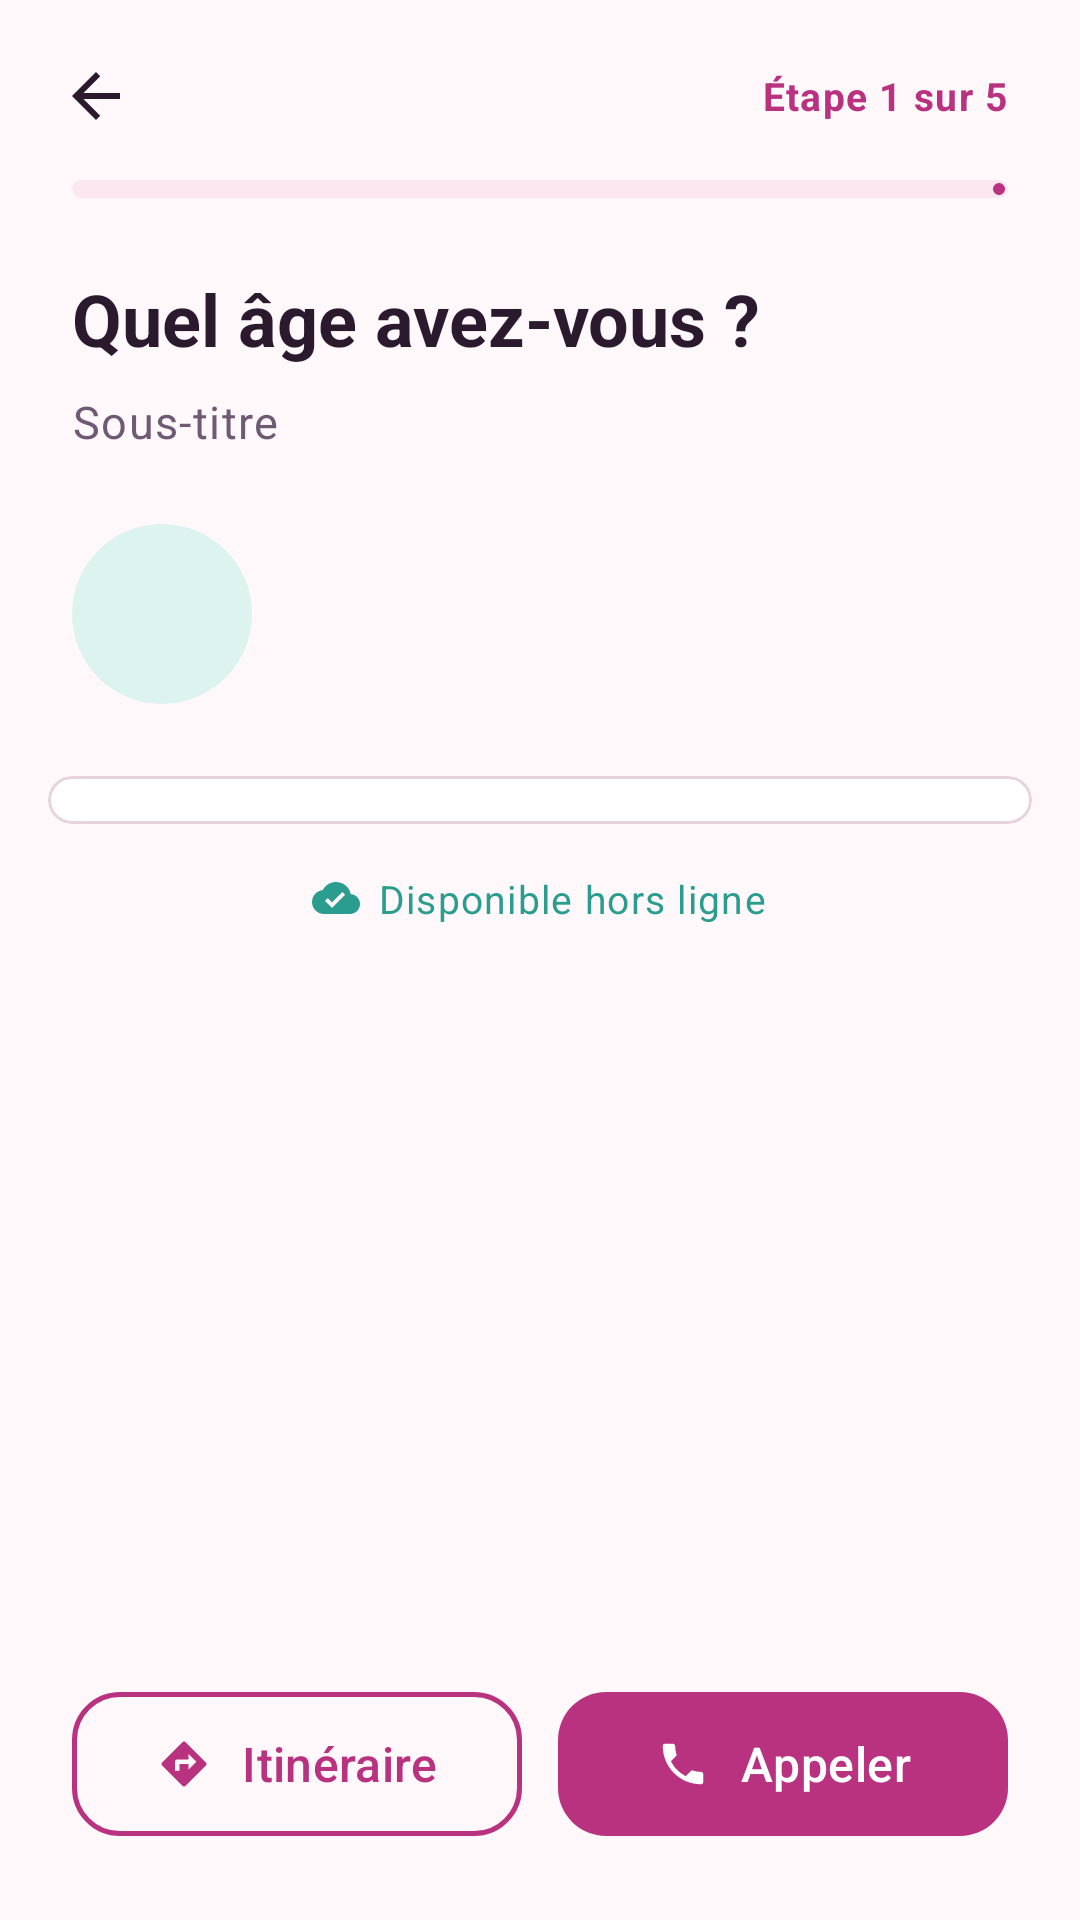

Locate icon controls on the screen. Image size 1080 × 1920, boxes as detection(x1, y1, x2, y2).
Retour: detection(72, 72, 120, 120)
